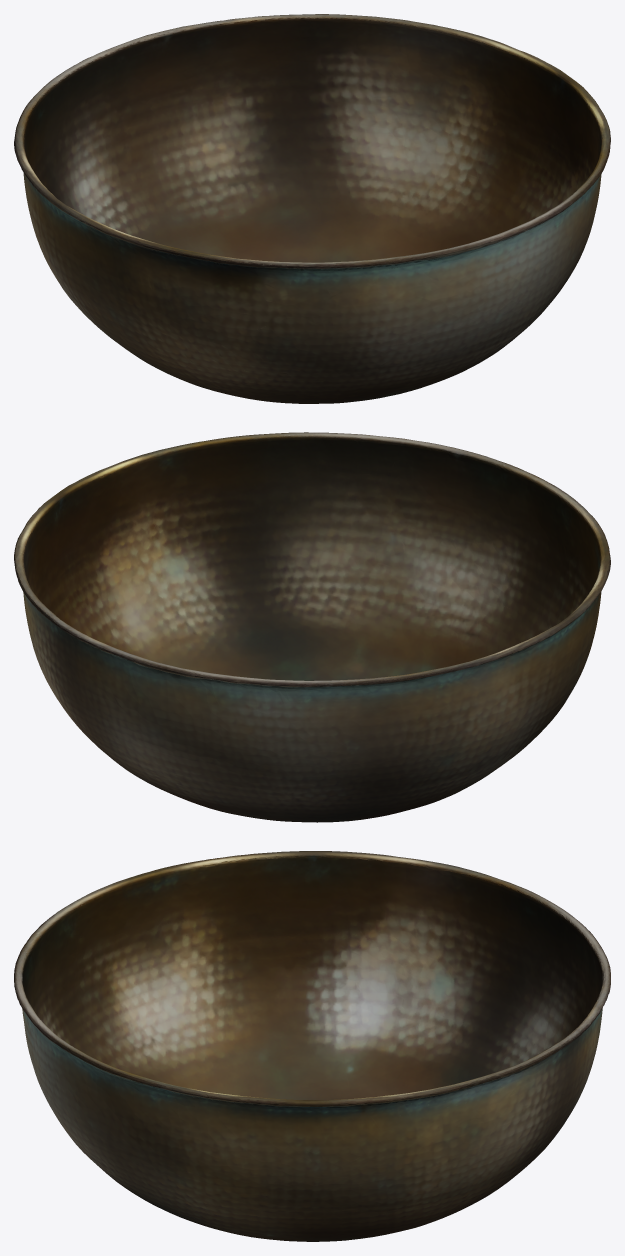
3 renders of one model, top to bottom at view 1: azimuth 30°, elevation 25°; view 2: azimuth 150°, elevation 25°; view 3: azimuth 270°, elevation 25°, orthographic.
Parts seen in each view (by area): view 1: world; view 2: world; view 3: world.
Part boxes in pixels (<box>): world: <box>14,14,610,403</box>; world: <box>14,432,610,822</box>; world: <box>14,851,610,1241</box>.
Bounding box in the file's own units: 1 × 0.38 × 1.
1 material, 1 textured.
